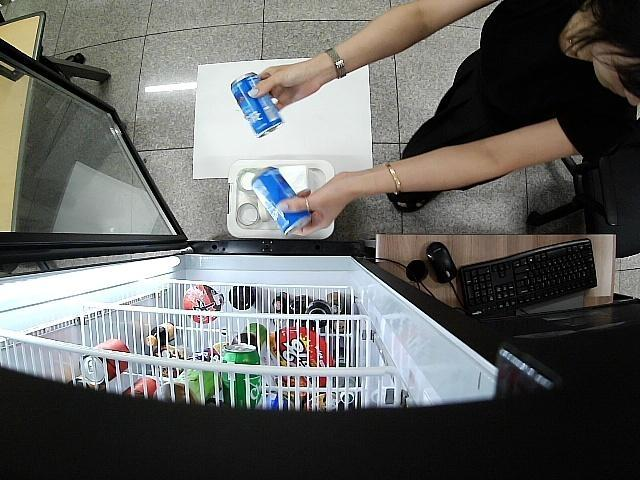15_letsbe: (250, 165, 312, 234), (228, 73, 282, 138)
